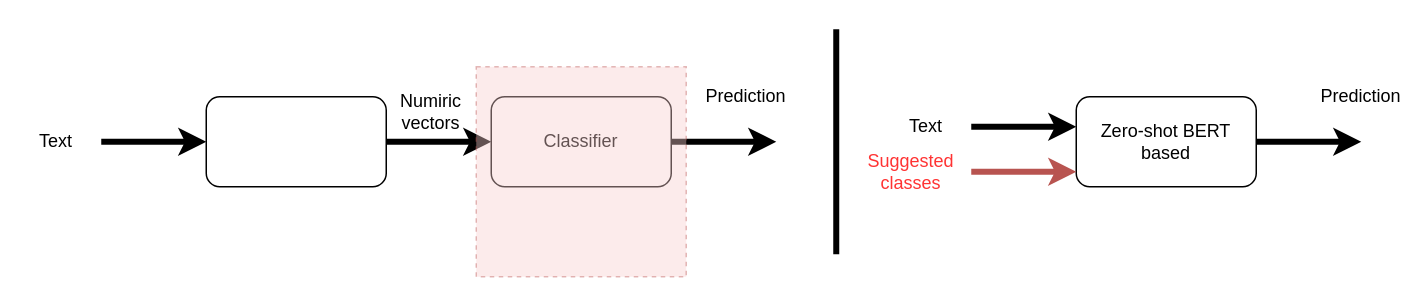
Image size: 1427x303. Some labels were removed from this diagram. The shapes that lost their labels are listed below. From the top down, each one's centre as x and y in pixels, then its label:
(x=295, y=141): Embedding / BERT
(x=580, y=171): Trained with set of classes
